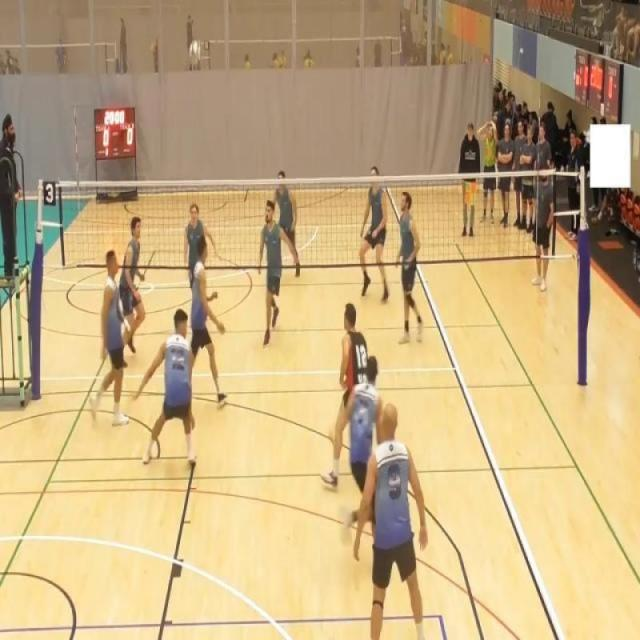volleyball: (188, 40, 202, 64)
